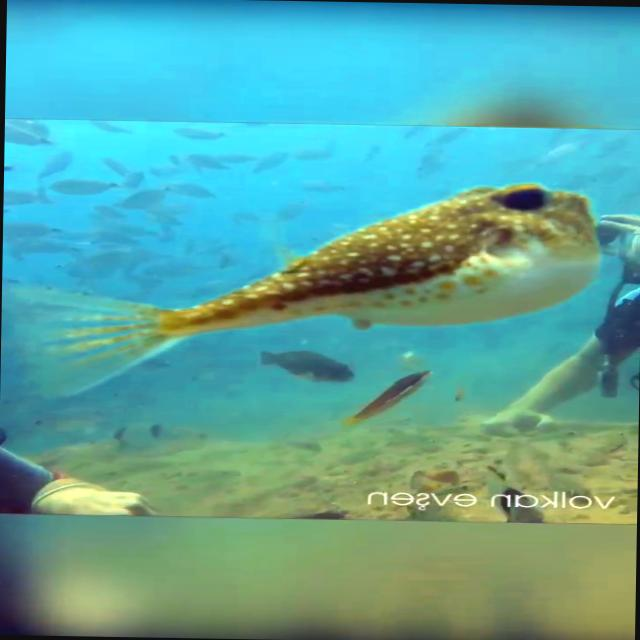Balon Baligi: (17, 173, 597, 410)
